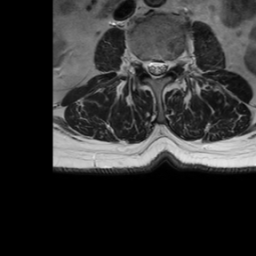CCS_normal: (154, 53, 159, 81)
LFS_normal: (168, 55, 175, 72)
LLS_normal: (159, 56, 167, 78)
RFS_normal: (137, 53, 146, 72)
RLS_normal: (145, 55, 154, 79)
